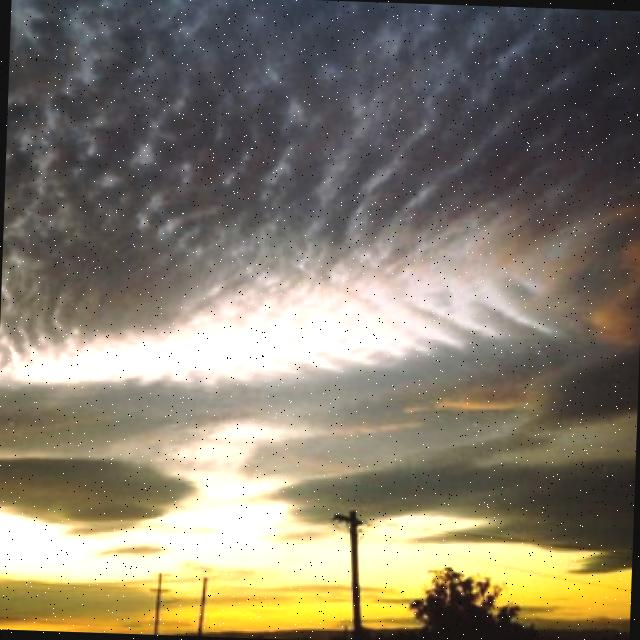Ac: (1, 8, 640, 470)
